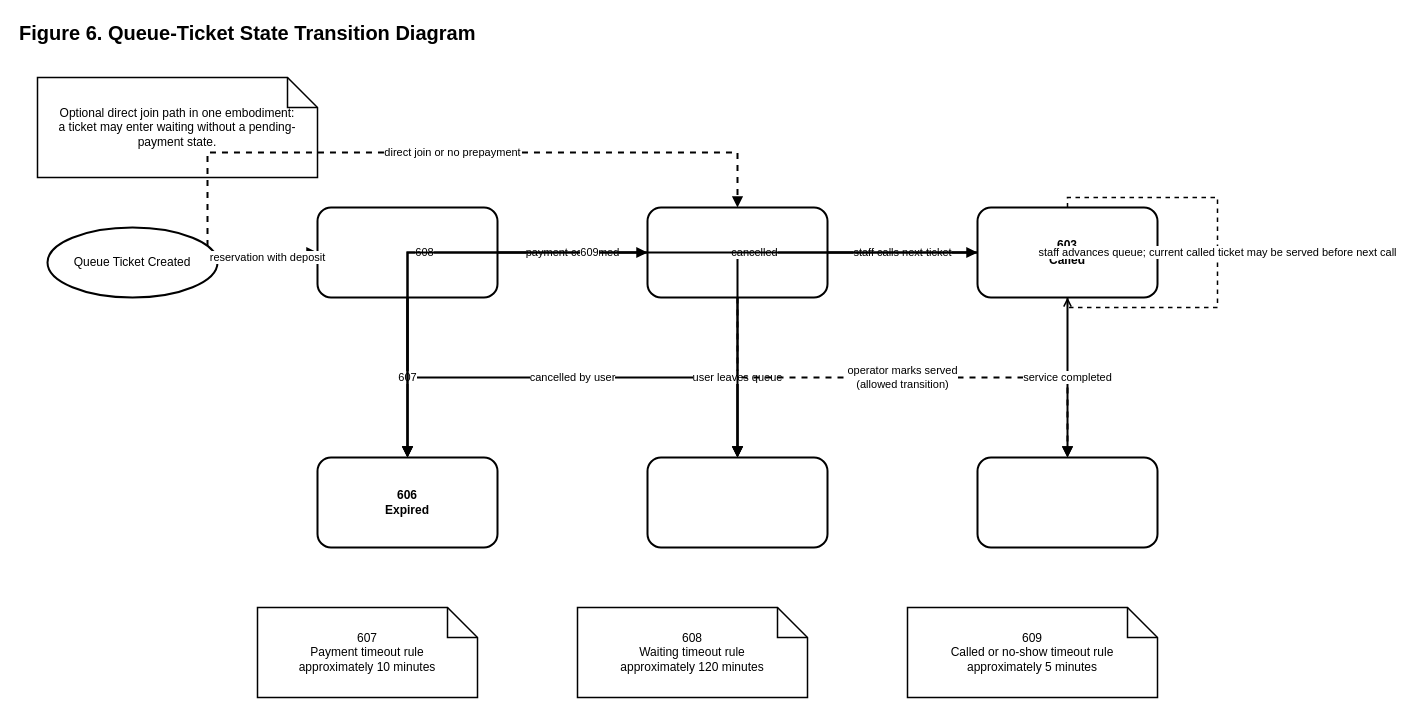
The diagram is 1413 pixels wide and 715 high, and some of its shapes have lost their labels. The centre of each missing label's shape, as x and y in pixels:
"601 Pending Payment" belongs at pixel 407 252.
"602 Waiting" belongs at pixel 737 252.
"604 Served" belongs at pixel 1067 502.
"605 Cancelled" belongs at pixel 737 502.
